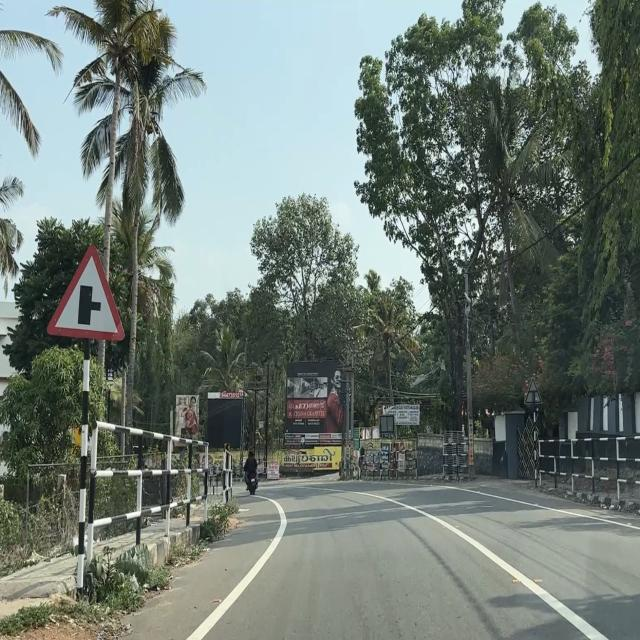SIDE_ROAD_RIGHT: (46, 241, 128, 344)
